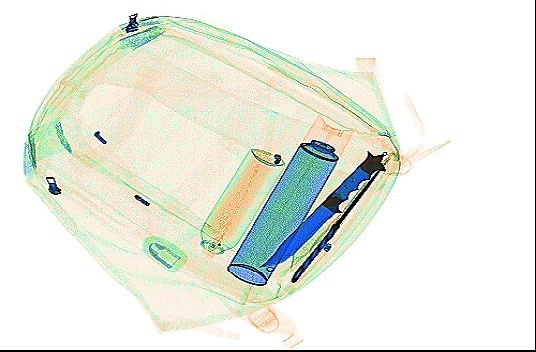knife: (255, 147, 388, 269), (289, 152, 395, 283)
pressure: (223, 110, 355, 287), (196, 146, 286, 261)
